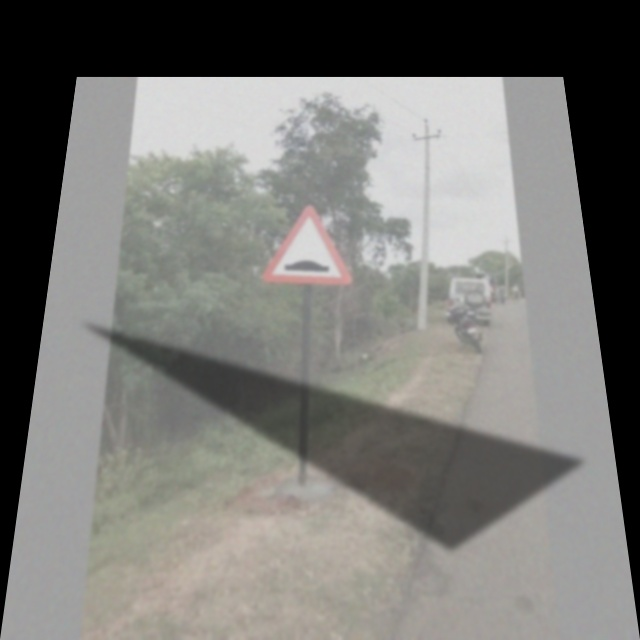Hump_or_Rough_Road: (255, 202, 355, 293)
